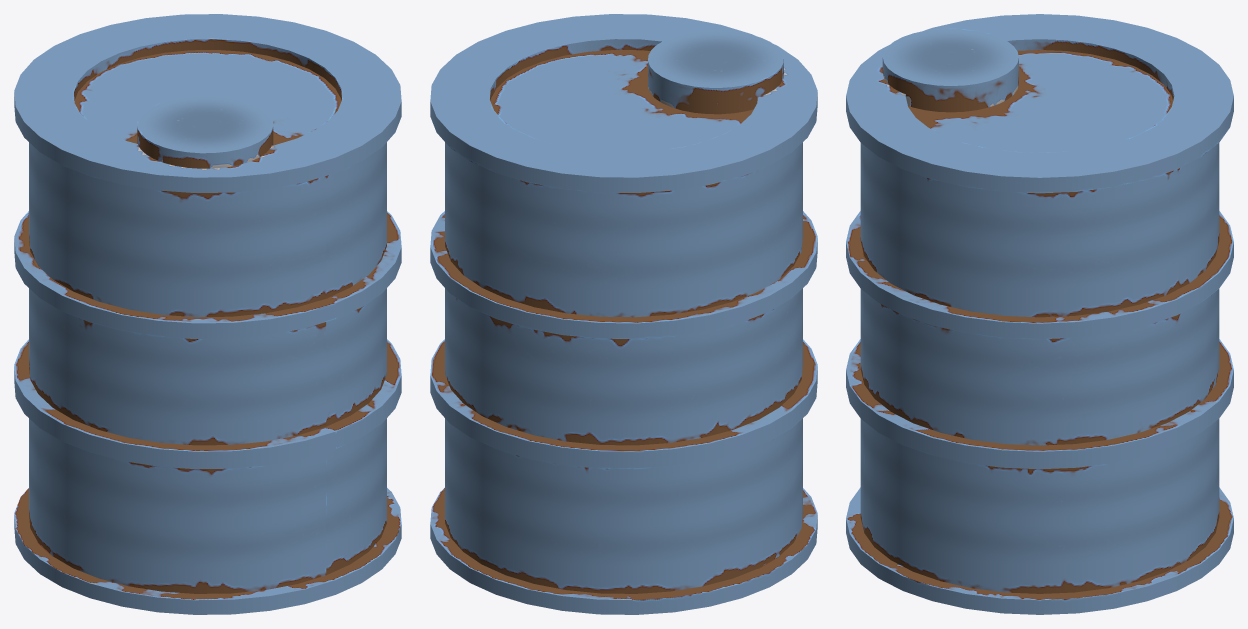
File: oil_2.fbx
The picture shows the model from 3 angles, left to right: view 1: azimuth 30°, elevation 25°; view 2: azimuth 150°, elevation 25°; view 3: azimuth 270°, elevation 25°; orthographic projection.
Visible parts, largest first — view 1: Oil; view 2: Oil; view 3: Oil.
Boxes of the visible parts, bbox=[...] form: Oil: bbox=[14, 14, 401, 614]; Oil: bbox=[430, 14, 817, 614]; Oil: bbox=[846, 14, 1233, 614].
Size of the model in its own units: 108 by 139 by 108.
Materials: 1 (1 with a texture image).
